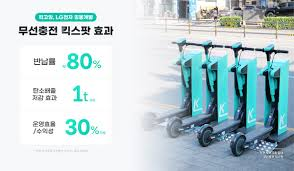kick_handler: (253, 43, 288, 55), (224, 42, 253, 53)
kick_wheel: (196, 125, 213, 147), (230, 133, 245, 154)
